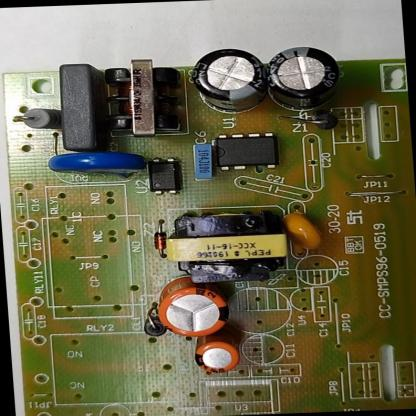Cap1: (138, 275, 238, 346)
Cap2: (190, 336, 249, 382)
Cap3: (185, 40, 268, 109)
Cap4: (266, 35, 353, 122)
MOSFET: (204, 126, 286, 177)
Mov: (46, 144, 156, 184)
Resistor: (9, 93, 61, 142)
Transformer: (154, 198, 304, 294), (92, 47, 206, 151)
